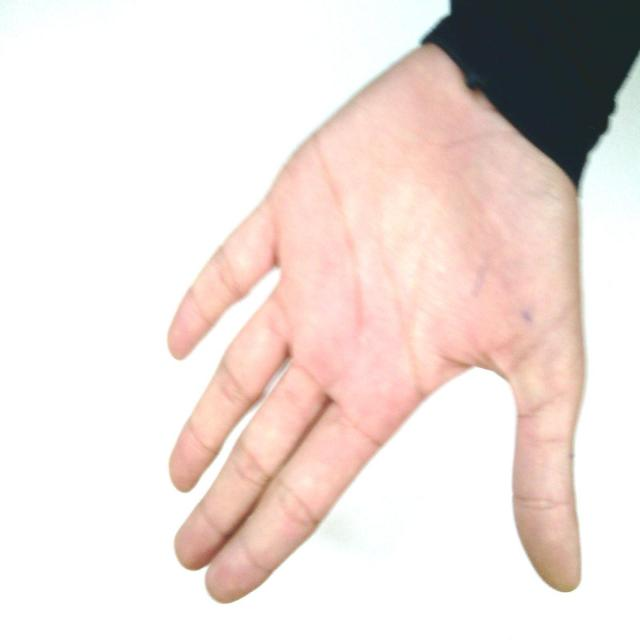others: (128, 0, 639, 618)
